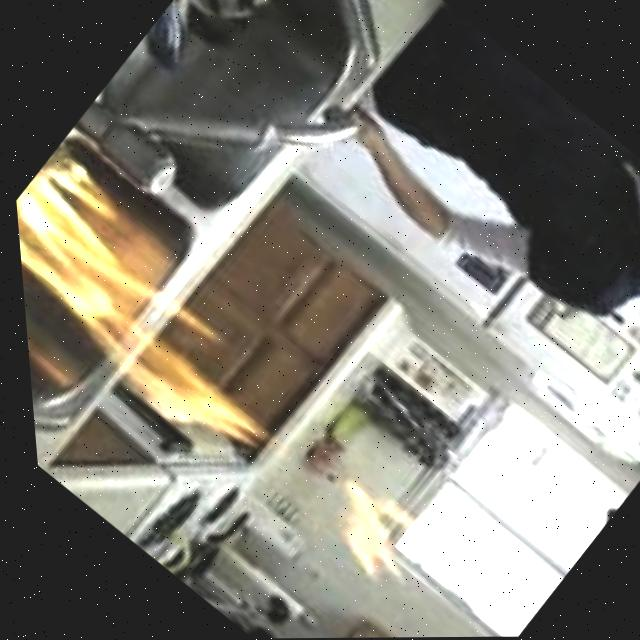Fire: (10, 150, 331, 488), (288, 449, 444, 593)
